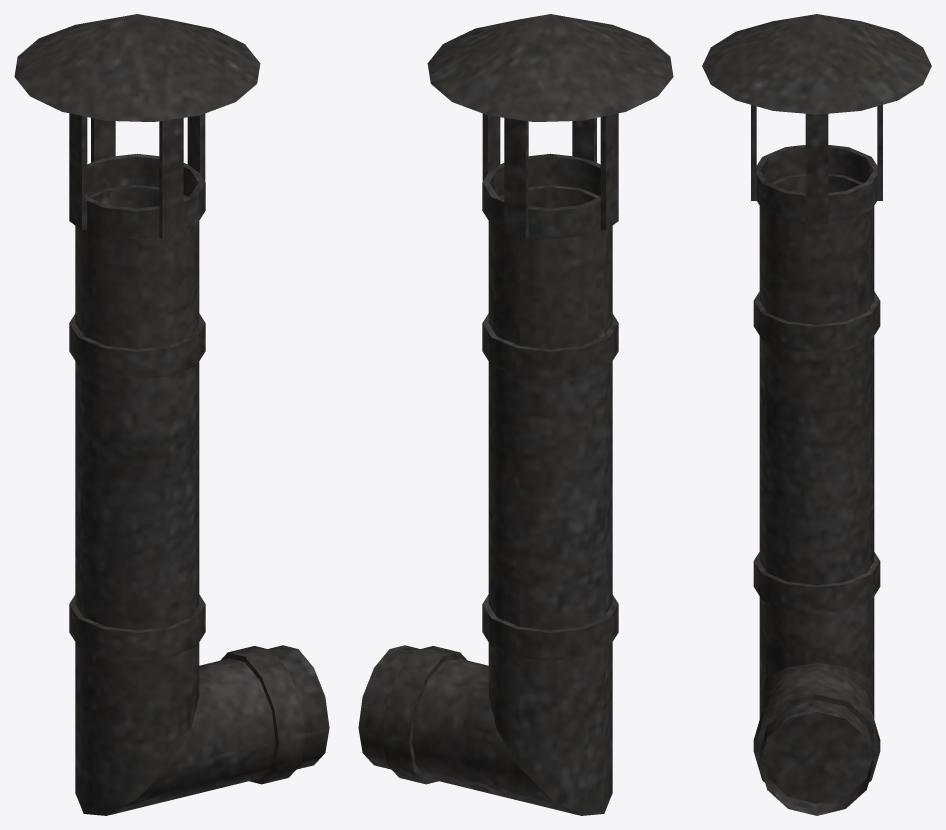
The model's file is chimney_a_3.obj.
3 renders of one model, left to right at view 1: azimuth 30°, elevation 25°; view 2: azimuth 150°, elevation 25°; view 3: azimuth 270°, elevation 25°, orthographic. The views are drawn at different scales.
Visible parts, largest first — view 1: chimney_a_3; view 2: chimney_a_3; view 3: chimney_a_3.
Part boxes in pixels (<box>): chimney_a_3: <box>14,14,329,815</box>; chimney_a_3: <box>358,14,673,815</box>; chimney_a_3: <box>702,14,931,815</box>.
Bounding box in the file's own units: 0.5 × 1.41 × 0.4.
